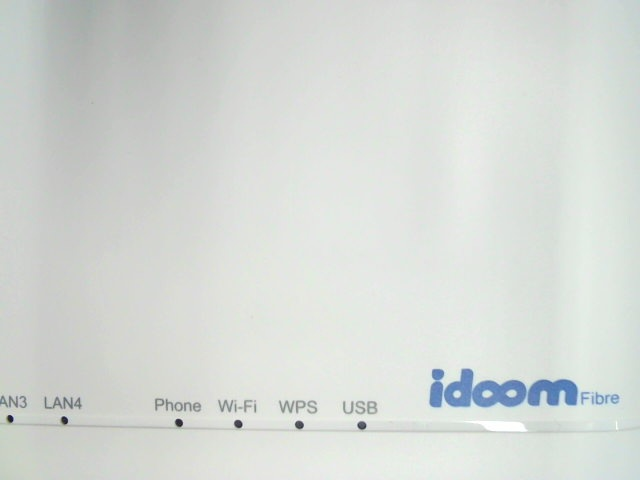BB_idoom: (413, 363, 623, 417)
